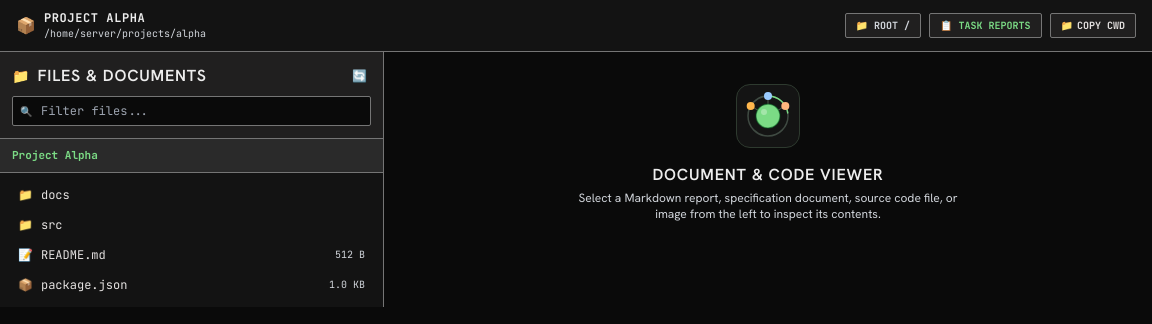
Test case: ProjectExplorer Component › selects a code file (package.json) and previews its formatted code
Step 1. Click the text "package.json" → [84, 284], box [41, 276, 127, 292]
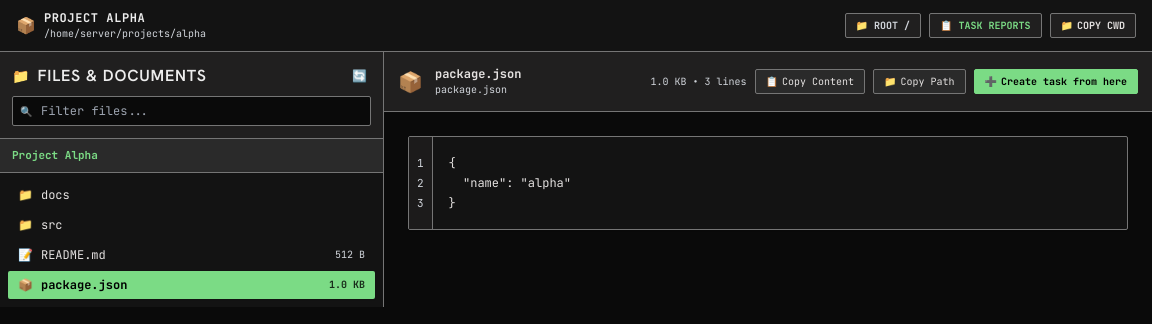
Check: the text "{ \"name\": \"alpha\" }" is shown, box [449, 155, 571, 211]
